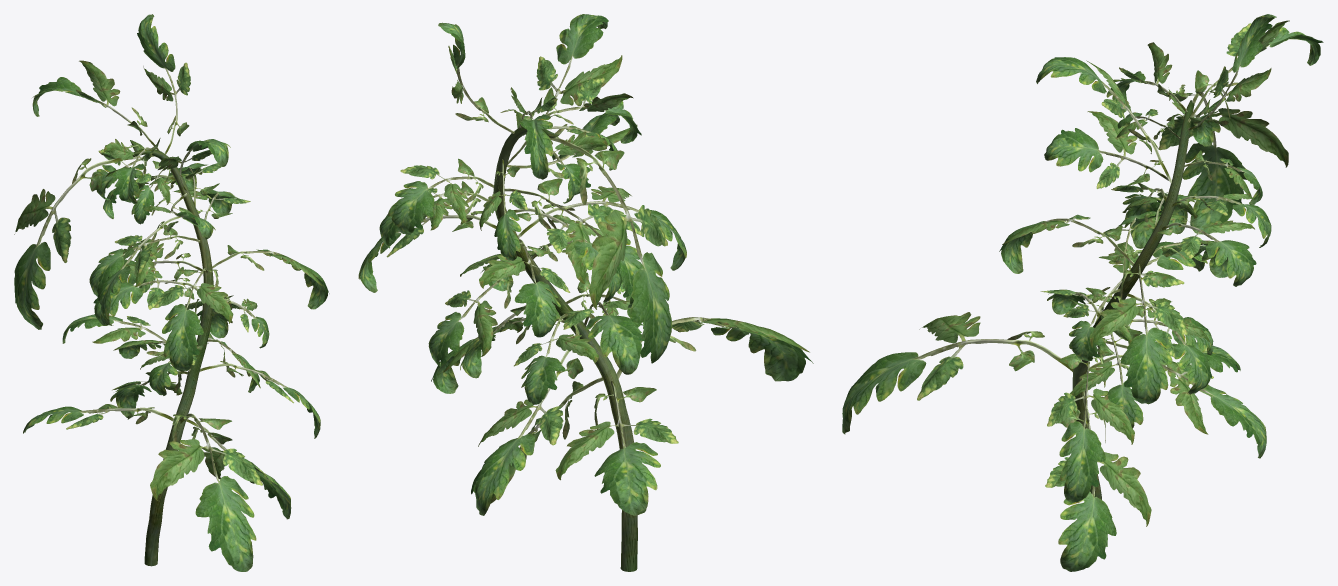
The model's file is tomatoPlant03.fbx.
3 renders of one model, left to right at view 1: azimuth 30°, elevation 25°; view 2: azimuth 150°, elevation 25°; view 3: azimuth 270°, elevation 25°, orthographic. The views are drawn at different scales.
Visible parts, largest first — view 1: Tomat1_Stvol; view 2: Tomat1_Stvol; view 3: Tomat1_Stvol.
Boxes of the visible parts, bbox=[...] form: Tomat1_Stvol: bbox=[14, 14, 329, 571]; Tomat1_Stvol: bbox=[358, 14, 813, 571]; Tomat1_Stvol: bbox=[842, 14, 1323, 571].
Size of the model in its own units: 4884 by 8202 by 6458.
